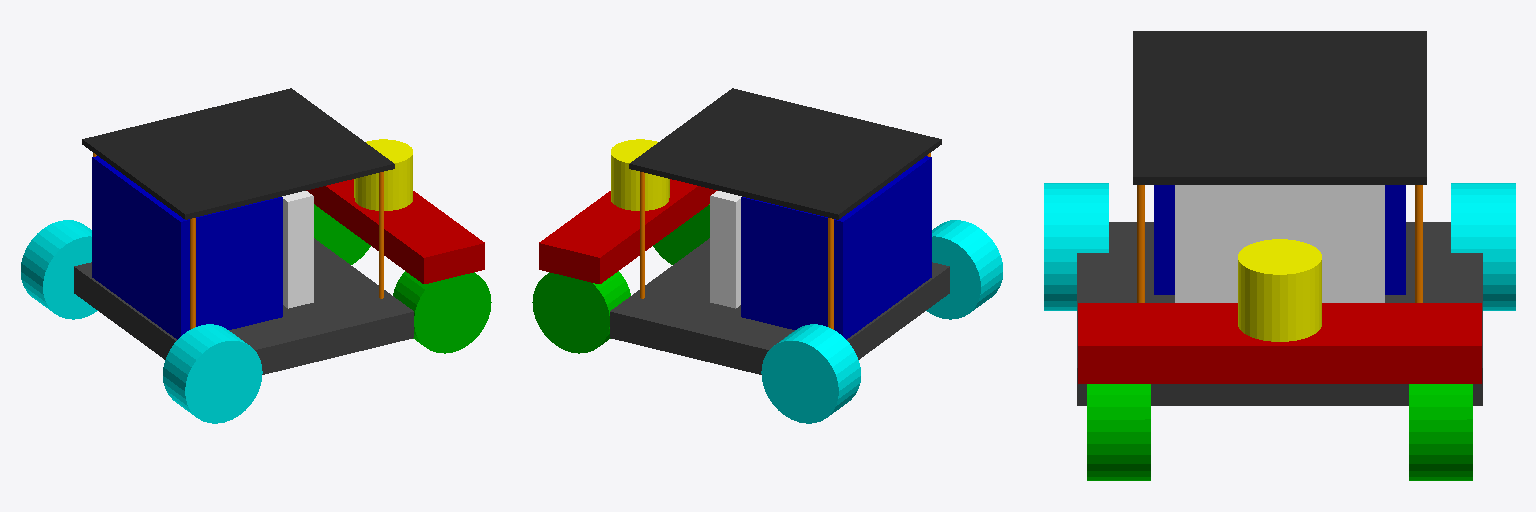
URDF robot description (box_robot):
<?xml version="1.0" ?>
<!-- =================================================================================== -->
<!-- |    This document was autogenerated by xacro from syscombase.xacro               | -->
<!-- |    EDITING THIS FILE BY HAND IS NOT RECOMMENDED                                 | -->
<!-- =================================================================================== -->
<robot name="box_robot" xmlns:xacro="http://ros.org/wiki/xacro">
  <!--base_height/2+torso_height/2 -->
  <!-- Define a number of dimensions using properties -->
  <!--property name="torso1_offset_x" value="0.185" />
   <property name="torso1_offset_y" value="0.16" />
   <property name="torso1_offset_z" value="0.15" /-->
  <!-- Define a number of dimensions using properties -->
  <!--property name="torso2_offset_x" value="-0.185" />
   <property name="torso2_offset_y" value="0.165" />
   <property name="torso2_offset_z" value="0.15" /-->
  <!-- Define a number of dimensions using properties -->
  <!--property name="torso3_offset_x" value="-0.185" />
   <property name="torso3_offset_y" value="-0.165" />
   <property name="torso3_offset_z" value="0.15" /-->
  <!-- Define a number of dimensions using properties -->
  <!--property name="torso4_offset_x" value="0.185" />
   <property name="torso4_offset_y" value="-0.165" />
   <property name="torso4_offset_z" value="0.15" /-->
  <!-- Put all the color definitions in a separate file -->
  <material name="Black">
    <color rgba="0.2 0.2 0.2 1.0"/>
  </material>
  <material name="TransparentBlack">
    <color rgba="0.2 0.2 0.2 0.8"/>
  </material>
  <material name="Orange">
    <color rgba="1.0  0.55 0.0 1.0"/>
  </material>
  <material name="Grey">
    <color rgba="0.7 0.7 0.7 1.0"/>
  </material>
  <material name="DarkGrey">
    <color rgba="0.3 0.3 0.3 1.0"/>
  </material>
  <material name="Red">
    <color rgba="0.8 0.0 0.0 1.0"/>
  </material>
  <material name="White">
    <color rgba="1.0 1.0 1.0 1.0"/>
  </material>
  <material name="OffWhite">
    <color rgba="0.8 0.8 0.8 1.0"/>
  </material>
  <material name="Blue">
    <color rgba="0.0 0.0 0.8 1.0"/>
  </material>
  <material name="Green">
    <color rgba="0.0 0.8 0.0 1.0"/>
  </material>
  <material name="TransparentGreen">
    <color rgba="0.0 0.8 0.0 0.5"/>
  </material>
  <material name="Yellow">
    <color rgba="1.0 1.0 0.0 1.0"/>
  </material>
  <material name="Gold">
    <color rgba="1.0 0.549 0.0 1.0"/>
  </material>
  <material name="Cyan">
    <color rgba="0.0 1.0 1.0 1.0"/>
  </material>
  <!-- laser-->
  <!--property name="laser_length" value="0.1" /> 
   <property name="laser_radius" value="0.05" /-->
  <!--define the base_footprint-->
  <link name="base_link">
    <visual>
      <origin rpy="0 0 0" xyz="0 0 0.025"/>
      <geometry>
        <box size="0.41 0.483 0.05"/>
      </geometry>
      <material name="DarkGrey"/>
    </visual>
  </link>
  <joint name="base_joint" type="fixed">
    <origin rpy="0 0 0" xyz="0 0 0.025"/>
    <parent link="base_link"/>
    <child link="base_link_f"/>
  </joint>
  <joint name="base_l_wheel_joint" type="continuous">
    <axis xyz="0 0 1"/>
    <limit effort="100" velocity="100"/>
    <safety_controller k_velocity="10"/>
    <origin rpy="1.57075 0 0" xyz="-0.18 0.2415 0"/>
    <parent link="base_link_f"/>
    <child link="base_l_wheel_link"/>
  </joint>
  <link name="base_l_wheel_link">
    <visual>
      <origin rpy="0 0 0" xyz="-0.01 0 0"/>
      <geometry>
        <cylinder length="0.076" radius="0.076"/>
      </geometry>
      <material name="Cyan"/>
    </visual>
  </link>
  <joint name="base_r_wheel_joint" type="continuous">
    <axis xyz="0 0 1"/>
    <limit effort="100" velocity="100"/>
    <safety_controller k_velocity="10"/>
    <origin rpy="-1.57075 0 0" xyz="-0.18 -0.2415 0"/>
    <parent link="base_link_f"/>
    <child link="base_r_wheel_link"/>
  </joint>
  <link name="base_r_wheel_link">
    <visual>
      <origin rpy="0 0 0" xyz="-0.01 0 0"/>
      <geometry>
        <cylinder length="0.076" radius="0.076"/>
      </geometry>
      <material name="Cyan"/>
    </visual>
  </link>
  <!-- Add the base and wheels-->
  <!--base name="base" color="Red"/-->
  <link name="base_link_f">
    <!--visual>
         <origin xyz="${origin_x} ${origin_y} ${origin_z + 0.27}" rpy="${angle_x} ${angle_y} ${angle_z}" />
           <geometry>
             <box size="${base_size_x} ${base_size_y - 0.133} ${base_size_z -0.04}" />
           </geometry>  
           <material name="${color}" />
       </visual>
         <collision>
           <origin xyz="${origin_x} ${origin_y} ${origin_z}" rpy="0 0 0" />
             <geometry>
               <box size="${base_size_x} ${wheel_offset_y*2 + wheel_length} ${base_size_z}" />
             </geometry>
         </collision-->
    <!-- define the balance xacro macro-->
    <!--visual>
         <origin xyz="${origin_x + 0.285} ${origin_y} ${origin_z + 0.095}" rpy="${angle_x} ${angle_y} ${angle_z}" />
           <geometry>
             <box size="${base_size_x - 0.29} ${base_size_y} ${base_size_z}" />
           </geometry>  
           <material name="${color}" />
       </visual>
         <collision>
           <origin xyz="${origin_x} ${origin_y} ${origin_z}" rpy="0 0 0" />
             <geometry>
               <box size="${base_size_x} ${wheel_offset_y*2 + wheel_length} ${base_size_z}" />
             </geometry>
         </collision-->
    <!--deifne the four cylinder xacro macro: first-->
    <visual>
      <origin rpy="0 0 0" xyz="0.185 0.165 0.145"/>
      <geometry>
        <cylinder length="0.25" radius="0.005"/>
      </geometry>
      <material name="Orange"/>
    </visual>
    <collision>
      <origin rpy="0 0 0" xyz="0 0 0"/>
      <geometry>
        <cylinder length="0.25" radius="0.005"/>
      </geometry>
    </collision>
    <!--deifne the four cylinder xacro macro: second-->
    <visual>
      <origin rpy="0 0 0" xyz="-0.185 0.165 0.145"/>
      <geometry>
        <cylinder length="0.25" radius="0.005"/>
      </geometry>
      <material name="Orange"/>
    </visual>
    <collision>
      <origin rpy="0 0 0" xyz="0 0 0"/>
      <geometry>
        <cylinder length="0.25" radius="0.005"/>
      </geometry>
    </collision>
    <!--deifne the four cylinder xacro macro: third-->
    <visual>
      <origin rpy="0 0 0" xyz="-0.185 -0.165 0.145"/>
      <geometry>
        <cylinder length="0.25" radius="0.005"/>
      </geometry>
      <material name="Orange"/>
    </visual>
    <collision>
      <origin rpy="0 0 0" xyz="0 0 0"/>
      <geometry>
        <cylinder length="0.25" radius="0.005"/>
      </geometry>
    </collision>
    <!--deifne the four cylinder xacro macro: fourth-->
    <visual>
      <origin rpy="0 0 0" xyz="0.185 -0.165 0.145"/>
      <geometry>
        <cylinder length="0.25" radius="0.005"/>
      </geometry>
      <material name="Orange"/>
    </visual>
    <collision>
      <origin rpy="0 0 0" xyz="0 0 0"/>
      <geometry>
        <cylinder length="0.25" radius="0.005"/>
      </geometry>
    </collision>
    <!--deifne the auxiliary wheel xacro macro: right-->
    <!--visual>
           <origin xyz="${origin_x + 0.2875} ${origin_y - 0.1915} ${origin_z}" rpy="${angle_x + PI/2} ${angle_y + PI/2} ${angle_z}"/>
             <geometry>
               <cylinder length="${wheel_length}" radius="${wheel_length}"/>
             </geometry>
             <material name="${color}" />
        </visual>
        <collision>
          <origin xyz="0 0 0" rpy="0 0 0"/>
            <geometry>
              <cylinder length="${wheel_length}" radius="${wheel_length}"/>
            </geometry>
        </collision-->
    <!--deifne the auxiliary wheel xacro macro: left-->
    <!--visual>
           <origin xyz="${origin_x + 0.2875} ${origin_y + 0.1915} ${origin_z}" rpy="${angle_x + PI/2} ${angle_y + PI/2} ${angle_z}"/>
             <geometry>
               <cylinder length="${wheel_length}" radius="${wheel_length}"/>
             </geometry>
             <material name="${color}" />
        </visual>
        <collision>
          <origin xyz="0 0 0" rpy="0 0 0"/>
            <geometry>
              <cylinder length="${wheel_length}" radius="${wheel_length}"/>
            </geometry>
        </collision-->
    <!--deifne the laser xacro macro>
        <visual>
           <origin xyz="${origin_x + 0.285} ${origin_y} ${origin_z + 0.158}" rpy="${angle_x} ${angle_y} ${angle_z}"/>
             <geometry>
               <cylinder length="${laser_length}" radius="${laser_radius}"/>
             </geometry>
             <material name="${color}" />
        </visual>
        <collision>
          <origin xyz="0 0 0" rpy="0 0 0"/>
            <geometry>
              <cylinder length="${laser_length}" radius="${laser_radius}"/>
            </geometry>
        </collision-->
    <!-- define the battery xacro macro-->
    <!--visual>
          <origin xyz="${origin_x - 0.08} ${origin_y} ${origin_z + 0.125}" rpy="${angle_x} ${angle_y} ${angle_z}" />
            <geometry>
              <box size="${base_size_x - 0.21} ${base_size_y - 0.18} ${base_size_z + 0.2}" />
            </geometry>  
            <material name="${color}" />
        </visual>
           <collision>
             <origin xyz="${origin_x} ${origin_y} ${origin_z}" rpy="0 0 0" />
               <geometry>
                 <box size="${base_size_x} ${wheel_offset_y*2 + wheel_length} ${base_size_z}" />
               </geometry>
           </collision-->
    <!-- define the decrease voltage xacro macro-->
    <!--visual>
          <origin xyz="${origin_x + 0.05} ${origin_y} ${origin_z + 0.125}" rpy="${angle_x} ${angle_y} ${angle_z}" />
            <geometry>
              <box size="${base_size_x - 0.36} ${base_size_y - 0.24} ${base_size_z + 0.15}" />
            </geometry>  
            <material name="${color}" />
        </visual>
           <collision>
             <origin xyz="${origin_x} ${origin_y} ${origin_z}" rpy="0 0 0" />
               <geometry>
                 <box size="${base_size_x} ${wheel_offset_y*2 + wheel_length} ${base_size_z}" />
               </geometry>
           </collision-->
  </link>
  <!--Add the torso1-->
  <!--torso1 name="torso1" parent="base" color="Gold" >
     <origin xyz="${torso1_offset_x} ${torso1_offset_y} ${torso1_offset_z}" rpy="0 0 0" />
   </torso1-->
  <!--Add the torso2-->
  <!--torso2 name="torso2" parent="base" color="Gold" >
     <origin xyz="${torso2_offset_x} ${torso2_offset_y} ${torso2_offset_z}" rpy="0 0 0" />
   </torso2-->
  <!--Add the torso3-->
  <!--torso3 name="torso3" parent="base" color="Gold" >
     <origin xyz="${torso3_offset_x} ${torso3_offset_y} ${torso3_offset_z}" rpy="0 0 0" />
   </torso3-->
  <!--Add the torso4-->
  <!--torso4 name="torso4" parent="base" color="Gold" >
     <origin xyz="${torso4_offset_x} ${torso4_offset_y} ${torso4_offset_z}" rpy="0 0 0" />
   </torso4-->
  <joint name="base_laser_joint" type="fixed">
    <origin rpy="0 0 0" xyz="0.285 0 0.158"/>
    <parent link="base_link_f"/>
    <child link="laser_link"/>
  </joint>
  <link name="laser_link">
    <visual>
      <origin rpy="0 0 0" xyz="0 0 0"/>
      <geometry>
        <cylinder length="0.1" radius="0.05"/>
      </geometry>
      <material name="Yellow"/>
    </visual>
    <collision>
      <origin rpy="0 0 0" xyz="0 0 0"/>
      <geometry>
        <cylinder length="0.1" radius="0.05"/>
      </geometry>
    </collision>
  </link>
  <joint name="base_balance_joint" type="fixed">
    <origin rpy="0 0 0" xyz="0.285 0 0.095"/>
    <parent link="base_link_f"/>
    <child link="balance_link"/>
  </joint>
  <link name="balance_link">
    <visual>
      <origin rpy="0 0 0" xyz="0 0 0"/>
      <geometry>
        <box size="0.12 0.48 0.05"/>
      </geometry>
      <material name="Red"/>
    </visual>
    <collision>
      <origin rpy="0 0 0" xyz="0 0 0"/>
      <geometry>
        <box size="0.12 0.48 0.05"/>
      </geometry>
    </collision>
  </link>
  <joint name="base_auxiliary_wheel_right_joint" type="fixed">
    <origin rpy="1.57075 1.57075 0" xyz="0.2875 -0.1915 0"/>
    <parent link="base_link_f"/>
    <child link="auxiliary_wheel_right_link"/>
  </joint>
  <link name="auxiliary_wheel_right_link">
    <visual>
      <origin rpy="0 0 0" xyz="0 0 0"/>
      <geometry>
        <cylinder length="0.076" radius="0.076"/>
      </geometry>
      <material name="Green"/>
    </visual>
    <collision>
      <origin rpy="0 0 0" xyz="0 0 0"/>
      <geometry>
        <cylinder length="0.076" radius="0.076"/>
      </geometry>
    </collision>
  </link>
  <joint name="base_auxiliary_wheel_left_joint" type="fixed">
    <origin rpy="1.57075 1.57075 0" xyz="0.2875 0.1915 0"/>
    <parent link="base_link_f"/>
    <child link="auxiliary_wheel_left_link"/>
  </joint>
  <link name="auxiliary_wheel_left_link">
    <visual>
      <origin rpy="0 0 0" xyz="0 0 0"/>
      <geometry>
        <cylinder length="0.076" radius="0.076"/>
      </geometry>
      <material name="Green"/>
    </visual>
    <collision>
      <origin rpy="0 0 0" xyz="0 0 0"/>
      <geometry>
        <cylinder length="0.076" radius="0.076"/>
      </geometry>
    </collision>
  </link>
  <joint name="base_decrease_voltage_joint" type="fixed">
    <origin rpy="0 0 0" xyz="0.05 0 0.125"/>
    <parent link="base_link_f"/>
    <child link="decrease_voltage_link"/>
  </joint>
  <link name="decrease_voltage_link">
    <visual>
      <origin rpy="0 0 0" xyz="0 0 0"/>
      <geometry>
        <box size="0.05 0.25 0.2"/>
      </geometry>
      <material name="White"/>
    </visual>
    <collision>
      <origin rpy="0 0 0" xyz="0 0 0"/>
      <geometry>
        <box size="0.05 0.25 0.2"/>
      </geometry>
    </collision>
  </link>
  <joint name="base_battery_joint" type="fixed">
    <origin rpy="0 0 0" xyz="-0.1 0 0.125"/>
    <parent link="base_link_f"/>
    <child link="battery_link"/>
  </joint>
  <link name="battery_link">
    <visual>
      <origin rpy="0 0 0" xyz="0 0 0"/>
      <geometry>
        <box size="0.2 0.3 0.25"/>
      </geometry>
      <material name="Blue"/>
    </visual>
    <collision>
      <origin rpy="0 0 0" xyz="0 0 0"/>
      <geometry>
        <box size="0.2 0.3 0.25"/>
      </geometry>
    </collision>
  </link>
  <joint name="base_up_layer_joint" type="fixed">
    <origin rpy="0 0 0" xyz="0 0 0.27"/>
    <parent link="base_link_f"/>
    <child link="up_layer_link"/>
  </joint>
  <link name="up_layer_link">
    <visual>
      <origin rpy="0 0 0" xyz="0 0 0"/>
      <geometry>
        <box size="0.41 0.35 0.01"/>
      </geometry>
      <material name="TransparentBlack"/>
    </visual>
    <collision>
      <origin rpy="0 0 0" xyz="0 0 0"/>
      <geometry>
        <box size="0.41 0.35 0.01"/>
      </geometry>
    </collision>
  </link>
</robot>

--- Render facts (derived) ---
The picture shows the robot from 3 angles, left to right: view 1: azimuth 30°, elevation 25°; view 2: azimuth 150°, elevation 25°; view 3: azimuth 270°, elevation 25°; orthographic projection.
Model box_robot with 11 links and 10 joints (2 continuous, 8 fixed), rooted at base_link, posed every joint at zero.
Links seen in each view (by area): view 1: up_layer_link, battery_link, base_link, balance_link, base_r_wheel_link, auxiliary_wheel_right_link, base_l_wheel_link, decrease_voltage_link, laser_link, auxiliary_wheel_left_link, base_link_f; view 2: up_layer_link, battery_link, base_link, balance_link, base_l_wheel_link, auxiliary_wheel_left_link, base_r_wheel_link, decrease_voltage_link, laser_link, auxiliary_wheel_right_link, base_link_f; view 3: up_layer_link, balance_link, decrease_voltage_link, base_link, laser_link, base_l_wheel_link, base_r_wheel_link, auxiliary_wheel_right_link, auxiliary_wheel_left_link, battery_link, base_link_f.
Link boxes in pixels (x1,y1,x2,y2): up_layer_link: (82, 88, 394, 219); battery_link: (92, 156, 282, 339); base_link: (74, 238, 413, 374); balance_link: (306, 179, 484, 283); base_r_wheel_link: (163, 324, 262, 423); auxiliary_wheel_right_link: (393, 271, 491, 353); base_l_wheel_link: (21, 220, 97, 319); decrease_voltage_link: (282, 191, 313, 308); laser_link: (354, 139, 412, 210); auxiliary_wheel_left_link: (314, 204, 370, 264); base_link_f: (93, 153, 383, 329); up_layer_link: (629, 88, 941, 219); battery_link: (741, 156, 931, 339); base_link: (610, 238, 949, 374); balance_link: (539, 179, 717, 283); base_l_wheel_link: (761, 324, 860, 423); auxiliary_wheel_left_link: (532, 271, 630, 353); base_r_wheel_link: (926, 220, 1002, 319); decrease_voltage_link: (710, 191, 741, 308); laser_link: (611, 139, 669, 210); auxiliary_wheel_right_link: (653, 204, 709, 264); base_link_f: (640, 153, 930, 329); up_layer_link: (1133, 31, 1426, 184); balance_link: (1078, 303, 1481, 383); decrease_voltage_link: (1175, 185, 1384, 302); base_link: (1077, 222, 1482, 405); laser_link: (1238, 239, 1321, 341); base_l_wheel_link: (1451, 183, 1515, 310); base_r_wheel_link: (1044, 183, 1108, 310); auxiliary_wheel_right_link: (1087, 384, 1150, 480); auxiliary_wheel_left_link: (1409, 384, 1472, 480); battery_link: (1154, 185, 1405, 294); base_link_f: (1137, 185, 1422, 302).
Bounding box of the posed robot: 0.6295 × 0.559 × 0.351 m (x, y, z).
Geometry: primitives only (box / cylinder / sphere), no mesh files.
